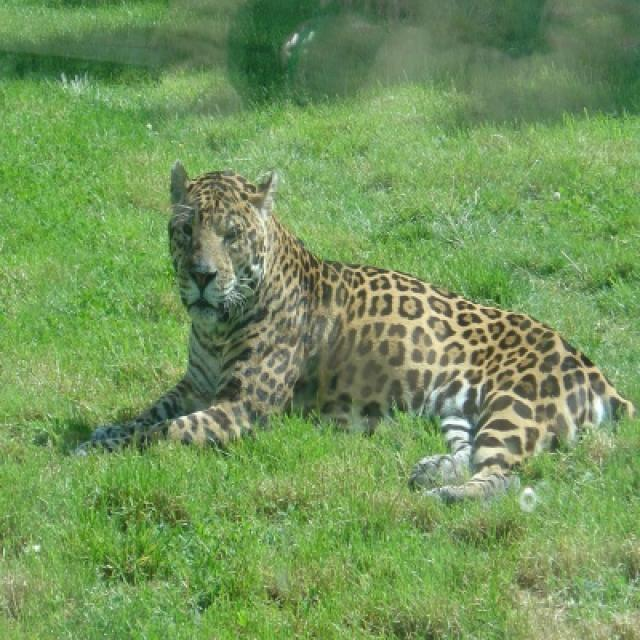Jaguar: (75, 164, 634, 508)
